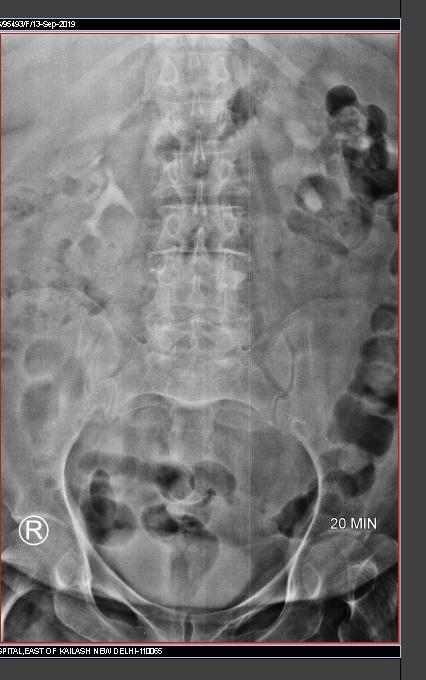bladder: (96, 521, 271, 612)
vertebrae: (152, 97, 243, 154)
